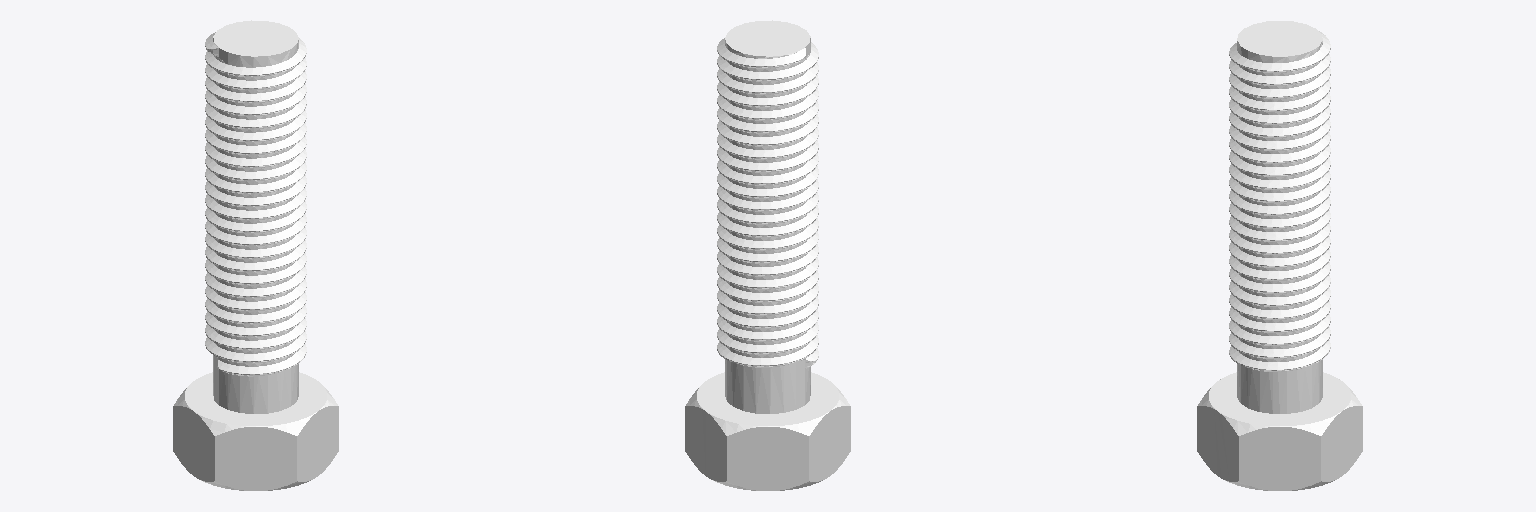
URDF robot description (M6_bolt):
<?xml version="1.0" encoding="utf-8"?>
<!-- This URDF was automatically created by SolidWorks to URDF Exporter! Originally created by [author] ([email redacted]) 
     Commit Version: 1.6.0-4-g7f85cfe  Build Version: 1.6.7995.38578
     For more information, please see http://wiki.ros.org/sw_urdf_exporter -->
<robot
  name="M6_bolt">
  <link
    name="M6_bolt_base_link">
    <inertial>
      <origin
        xyz="1.73472347597681E-18 1.30104260698261E-18 1.38777878078145E-17"
        rpy="0 0 0" />
      <mass
        value="0.00132116703228283" />
      <inertia
        ixx="1.39039501814154E-07"
        ixy="-1.11409296172805E-12"
        ixz="-1.2492786950186E-12"
        iyy="1.39038231801591E-07"
        iyz="-5.78342989340864E-11"
        izz="1.0587031274274E-08" />
    </inertial>
    <visual>
      <origin
        xyz="0 0 0"
        rpy="0 0 0" />
      <geometry>
        <mesh
          filename="package://M6_bolt/meshes/M6_bolt_base_link.dae" />
      </geometry>
      <material
        name="">
        <color
          rgba="1 1 1 1" />
      </material>
    </visual>
    <collision>
      <origin
        xyz="0 0 0"
        rpy="0 0 0" />
      <geometry>
        <mesh
          filename="package://M6_bolt/meshes/M6_bolt_base_link.dae" />
      </geometry>
    </collision>
  </link>
</robot>

--- Render facts (derived) ---
Views: 3 orthographic renders of the robot side by side, from view 1: azimuth 30°, elevation 25°; view 2: azimuth 150°, elevation 25°; view 3: azimuth 270°, elevation 25°.
Robot: M6_bolt — 1 links, 0 joints (none); root link M6_bolt_base_link; default pose: every joint at zero.
Links seen in each view (by area): view 1: M6_bolt_base_link; view 2: M6_bolt_base_link; view 3: M6_bolt_base_link.
Boxes of the visible links, x1,y1,x2,y2 form: M6_bolt_base_link: (173, 20, 338, 490); M6_bolt_base_link: (685, 20, 850, 490); M6_bolt_base_link: (1197, 21, 1362, 490).
Size in the robot's own frame: 0.01 by 0.0115 by 0.0325 metres.
1 mesh visuals loaded from 1 distinct referenced files (1 Collada DAE).